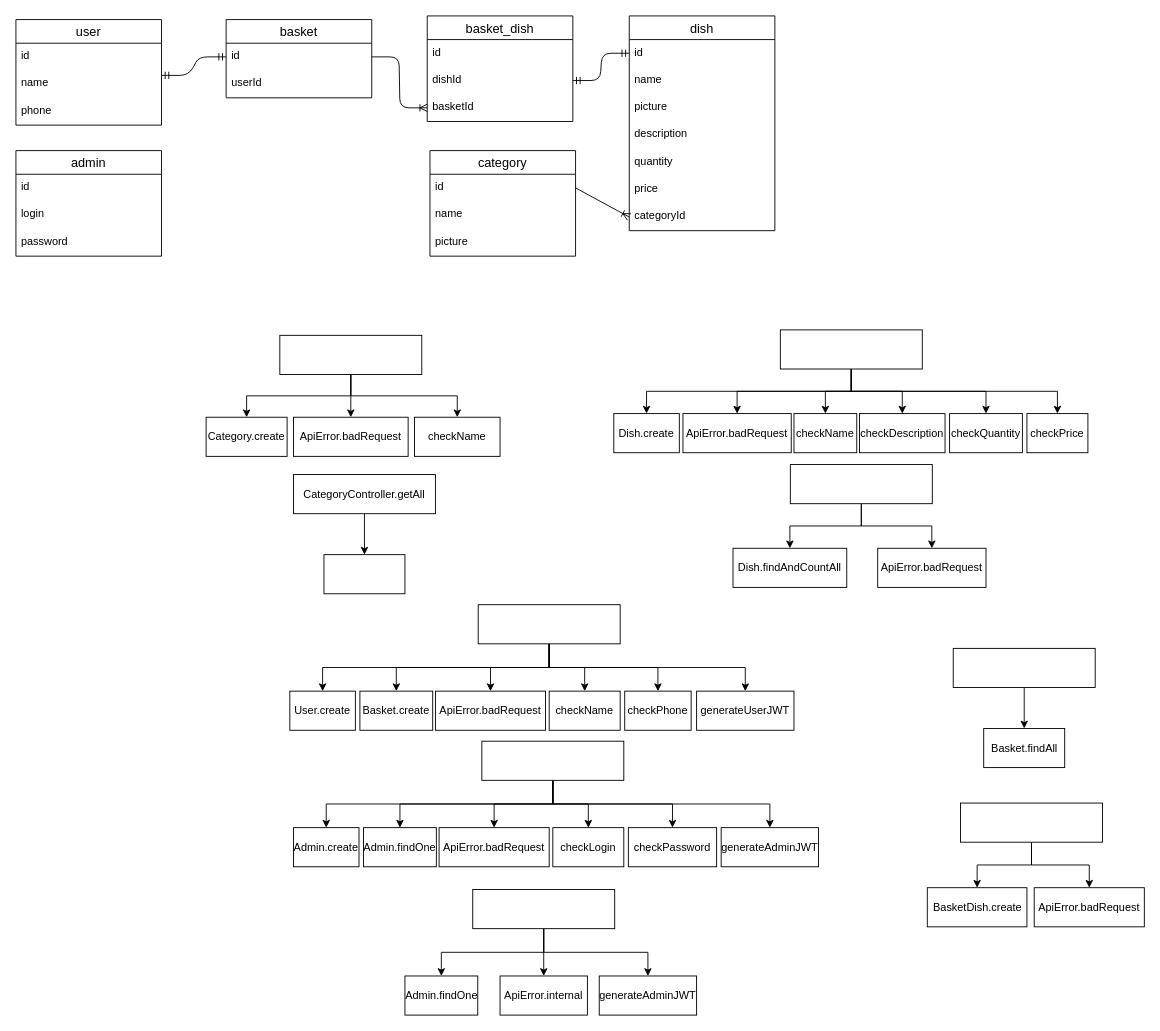
This 1160x1031 diagram has some shape labels left out. Here are the shapes that lost their labels. From the top down, the centre of each, then its label:
At (350,354): "CategoryController.create".
At (850,349): "DishController.create".
At (860,484): "DishController.getAll".
At (364,574): "Category.findAll".
At (548,624): "UserController.identification".
At (1023,667): "BasketDishController.getAll".
At (552,760): "UserController.registration".
At (1031,822): "BasketDishController.create".
At (543,909): "UserController.login".
